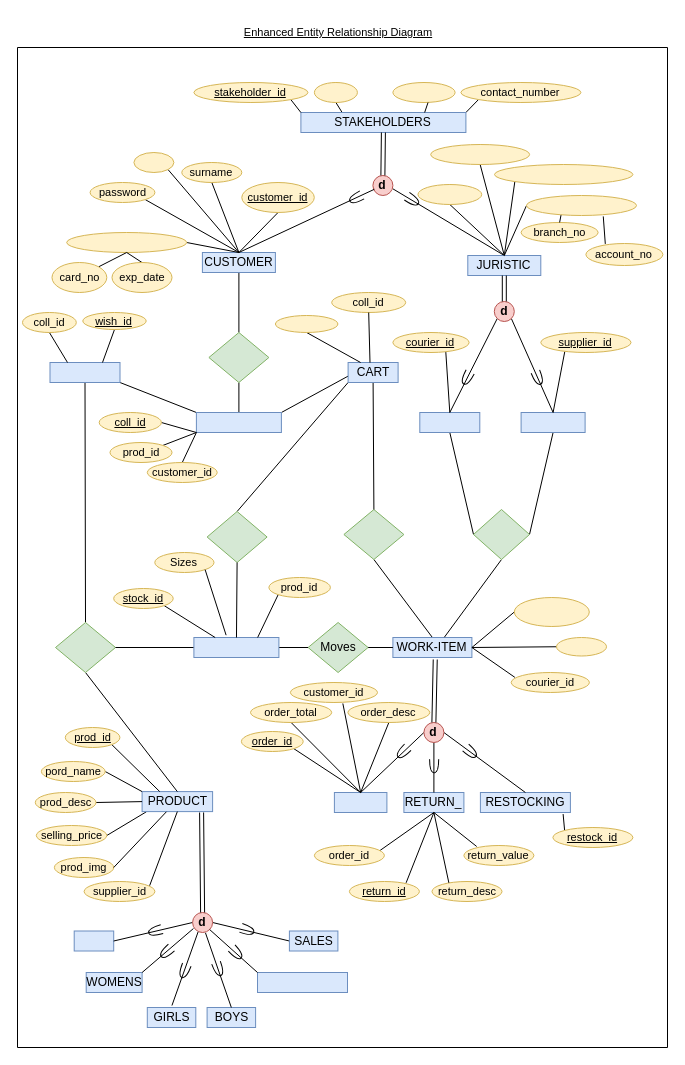
Image size: 685x1065. Some labels were removed from this diagram. Each missing label, with the centre of its shape:
"address" goes at pixel 423 92.
"banking_details" goes at pixel 581 205.
"cart_id" goes at pixel 306 323.
"COLLECTION" goes at pixel 238 422.
"COURIER" goes at pixel 449 422.
"Creates" goes at pixel 373 534.
"Curates" goes at pixel 238 357.
"date" goes at pixel 581 646.
"Depletes" goes at pixel 236 536.
"Details" goes at pixel 85 647.
"email" goes at pixel 335 92.
"freight_rate" goes at pixel 563 174.
"Fulfills" goes at pixel 501 534.
"jurist_id" goes at pixel 449 194.
"MENS" goes at pixel 93 940.
"name" goes at pixel 153 162.
"ORDER_" goes at pixel 360 802.
"payment_method" goes at pixel 126 242.
"STOCK" goes at pixel 236 647.
"SUPPLIER" goes at pixel 552 422.
"trading_name" goes at pixel 480 154.
"TRADITIONAL" goes at pixel 302 982.
"waybill" goes at pixel 551 611.
"WISHLIST" goes at pixel 84 372.
